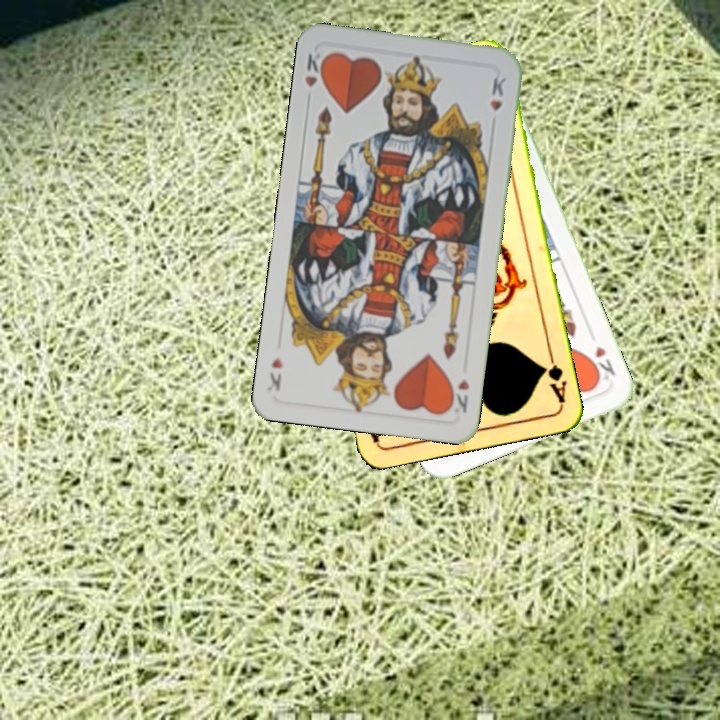GA: (538, 347, 569, 406)
HK: (300, 47, 330, 106), (585, 341, 618, 386), (445, 375, 472, 415)
